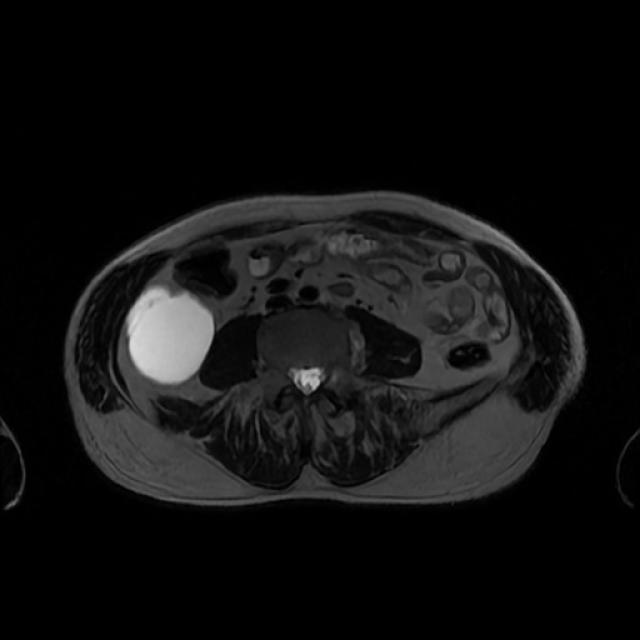sag: (124, 281, 216, 386)
